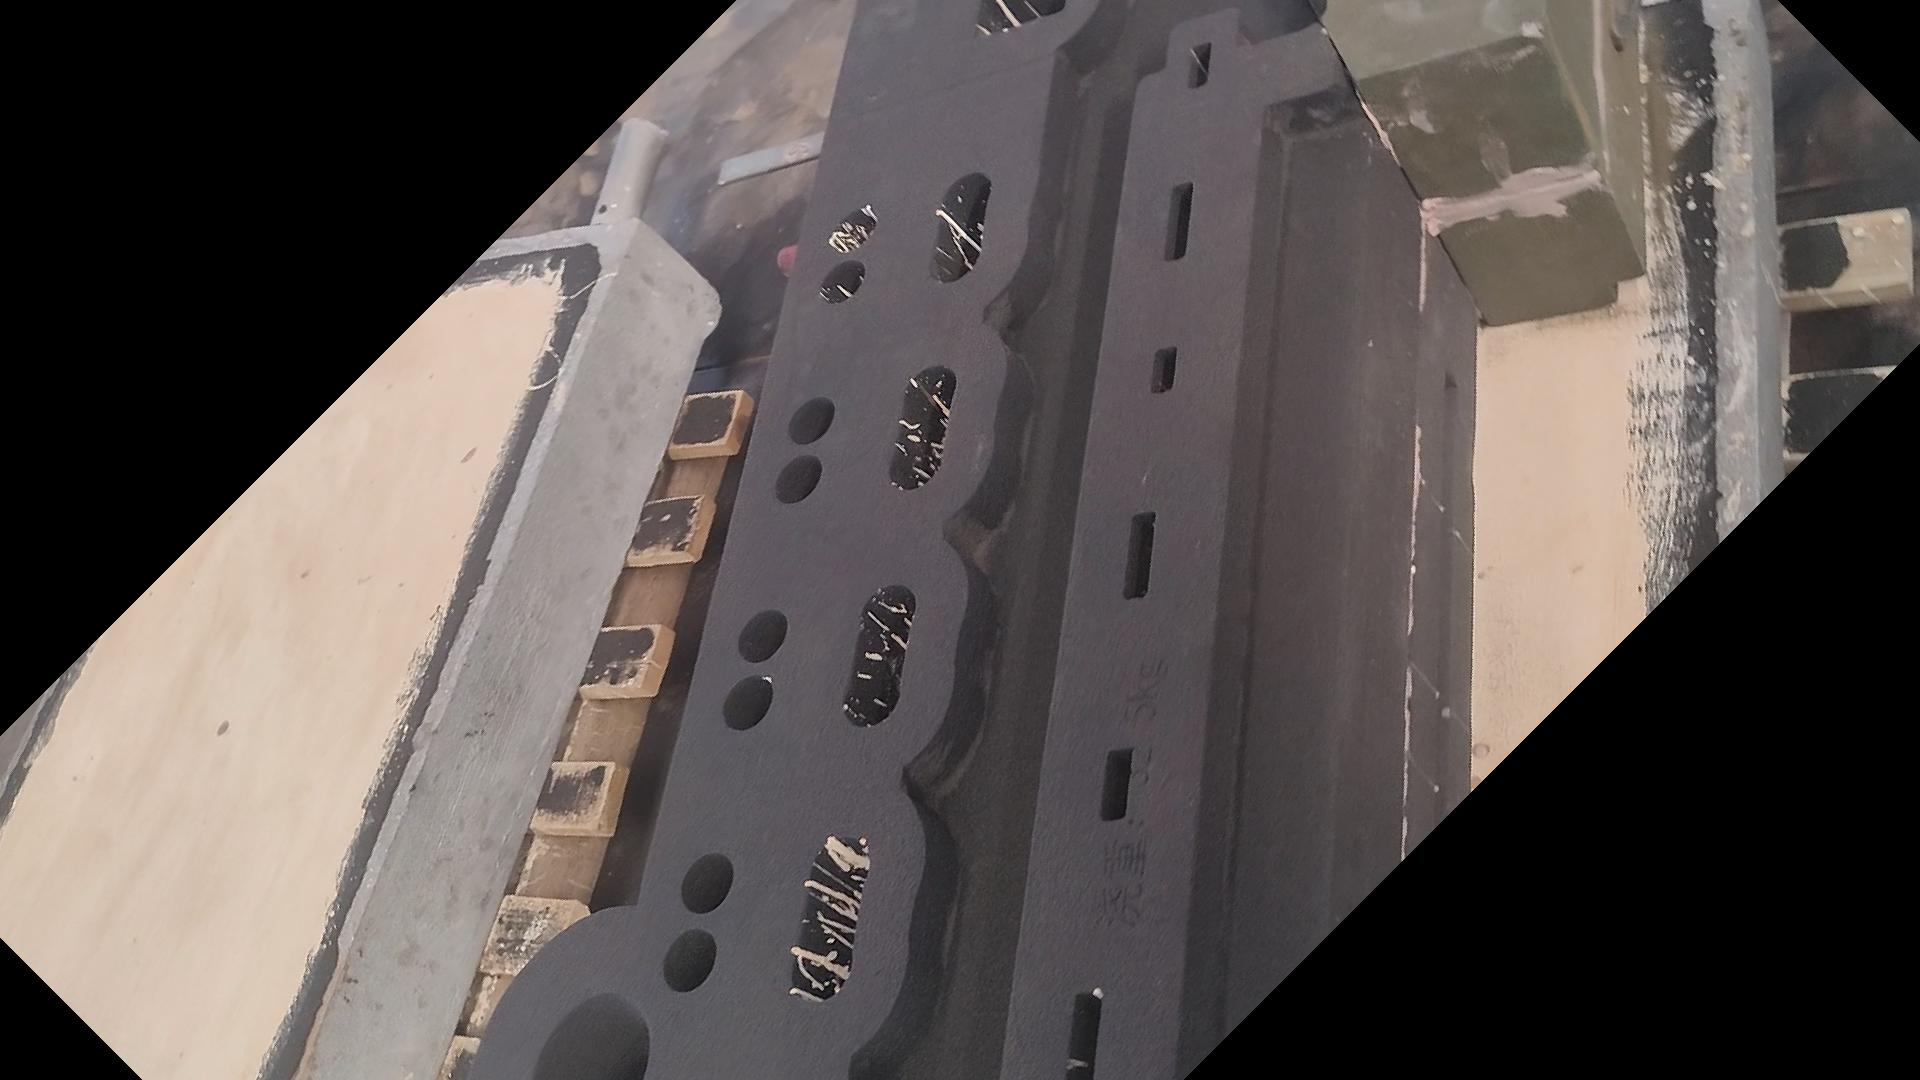pouring hole: (525, 992, 653, 1080)
